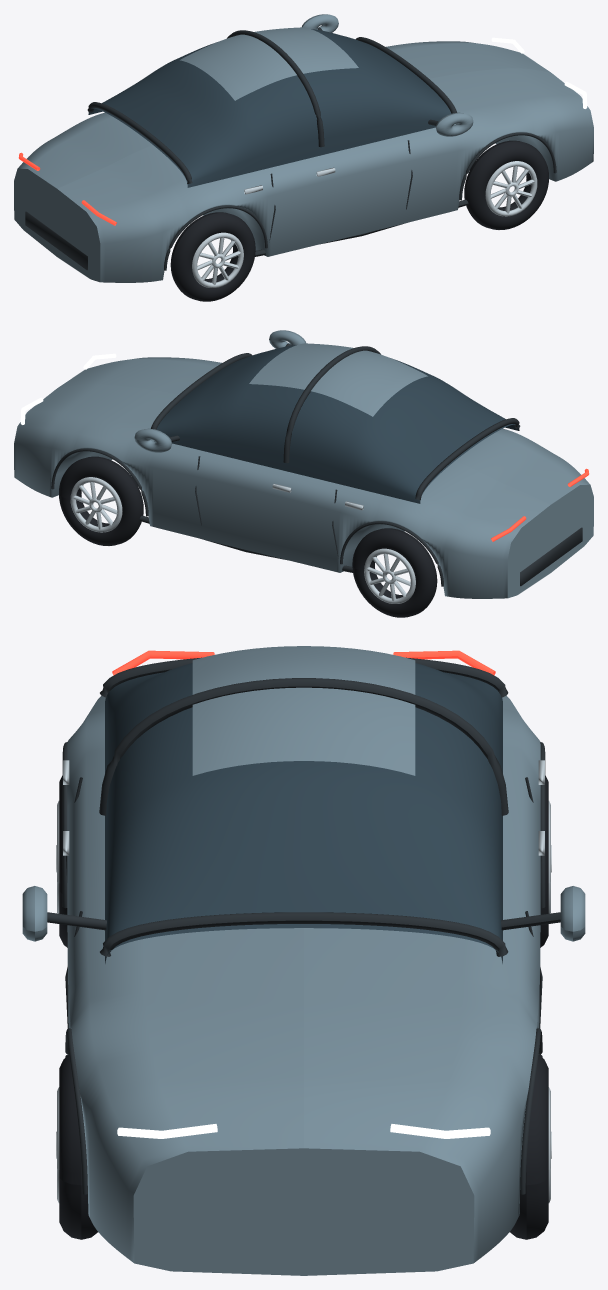
File: crossover.glb
3 renders of one model, top to bottom at view 1: azimuth 30°, elevation 25°; view 2: azimuth 150°, elevation 25°; view 3: azimuth 270°, elevation 25°, orthographic. The views are drawn at different scales.
Parts seen in each view (by area): view 1: body_paint_batch_0, smoked_glass_batch_0, carbon_trim_batch_0, rubber_batch_4, rubber_batch_2, brushed_alloy_batch_2, brushed_alloy_batch_4; view 2: body_paint_batch_0, smoked_glass_batch_0, carbon_trim_batch_0, rubber_batch_3, rubber_batch_1, brushed_alloy_batch_1, brushed_alloy_batch_3; view 3: body_paint_batch_0, smoked_glass_batch_0, carbon_trim_batch_0, rubber_batch_1, rubber_batch_2, front_led_batch_0, rear_led_batch_0.
Boxes of the visible parts, left/top/right/bottom form: body_paint_batch_0: left=14, top=14, right=593, bottom=282; smoked_glass_batch_0: left=88, top=29, right=451, bottom=187; carbon_trim_batch_0: left=25, top=27, right=556, bottom=270; rubber_batch_4: left=170, top=212, right=255, bottom=301; rubber_batch_2: left=464, top=140, right=548, bottom=229; brushed_alloy_batch_2: left=485, top=161, right=537, bottom=216; brushed_alloy_batch_4: left=192, top=232, right=243, bottom=287; body_paint_batch_0: left=14, top=330, right=593, bottom=598; smoked_glass_batch_0: left=156, top=345, right=519, bottom=503; carbon_trim_batch_0: left=51, top=343, right=582, bottom=586; rubber_batch_3: left=352, top=528, right=437, bottom=617; rubber_batch_1: left=59, top=456, right=143, bottom=545; brushed_alloy_batch_1: left=70, top=477, right=122, bottom=532; brushed_alloy_batch_3: left=364, top=548, right=415, bottom=603; body_paint_batch_0: left=22, top=646, right=585, bottom=1275; smoked_glass_batch_0: left=105, top=663, right=502, bottom=963; carbon_trim_batch_0: left=47, top=657, right=560, bottom=1194; rubber_batch_1: left=510, top=1055, right=548, bottom=1239; rubber_batch_2: left=59, top=1055, right=97, bottom=1239; front_led_batch_0: left=117, top=1124, right=490, bottom=1138; rear_led_batch_0: left=112, top=650, right=495, bottom=675.
Bounding box in the file's own units: 4.59 × 1.67 × 2.26.
